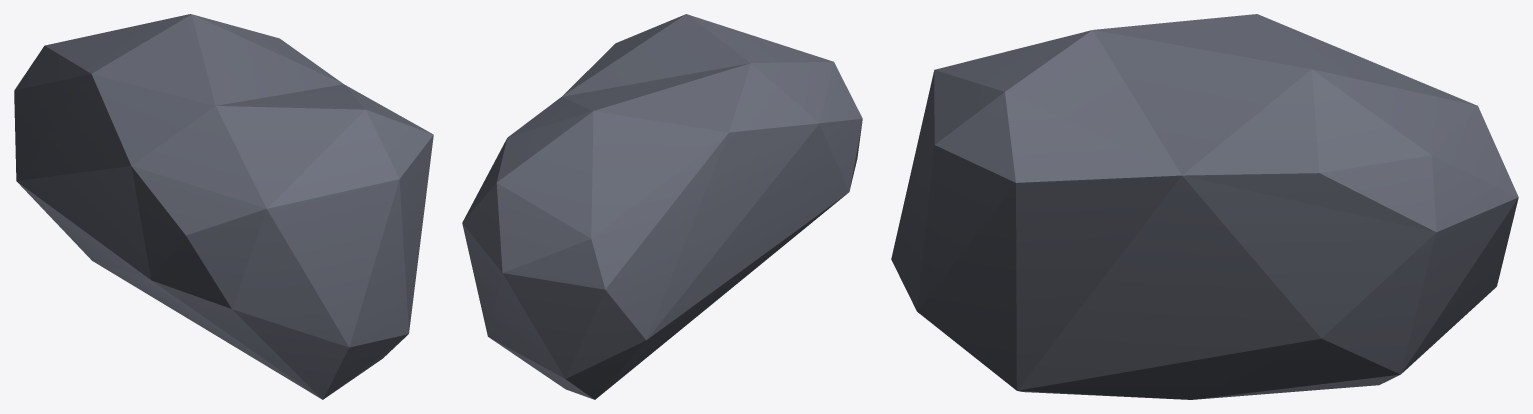
The model's file is BigRock_03.fbx.
3 renders of one model, left to right at view 1: azimuth 30°, elevation 25°; view 2: azimuth 150°, elevation 25°; view 3: azimuth 270°, elevation 25°, orthographic. The views are drawn at different scales.
Parts seen in each view (by area): view 1: BigRock_03; view 2: BigRock_03; view 3: BigRock_03.
Part boxes in pixels (x1,y1,x2,y2): BigRock_03: (14,14,433,399); BigRock_03: (462,14,862,399); BigRock_03: (891,14,1518,399).
Size of the model in its own units: 1.61 by 1.66 by 2.92.
